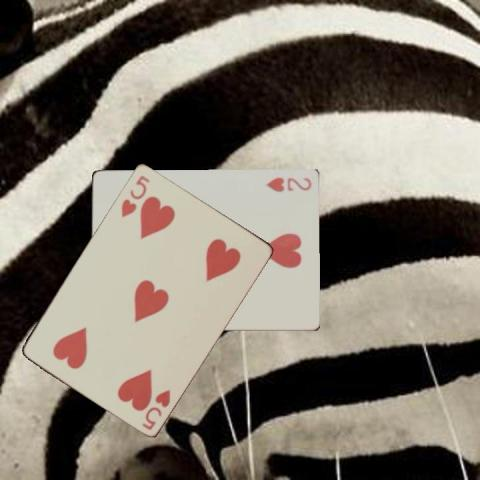2h: (262, 175, 313, 194)
5h: (118, 172, 151, 219), (139, 386, 172, 431)
